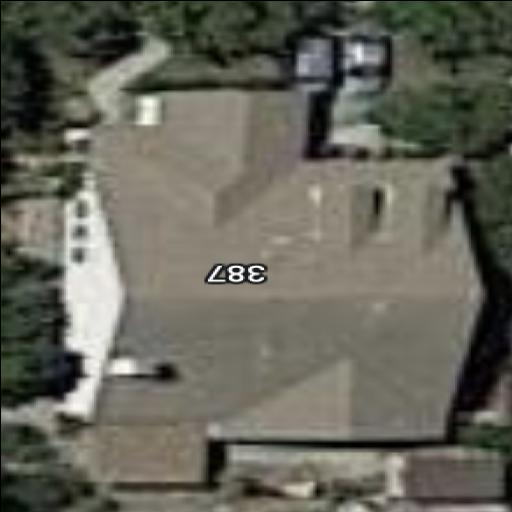Slope-Roof: (69, 85, 484, 481)
